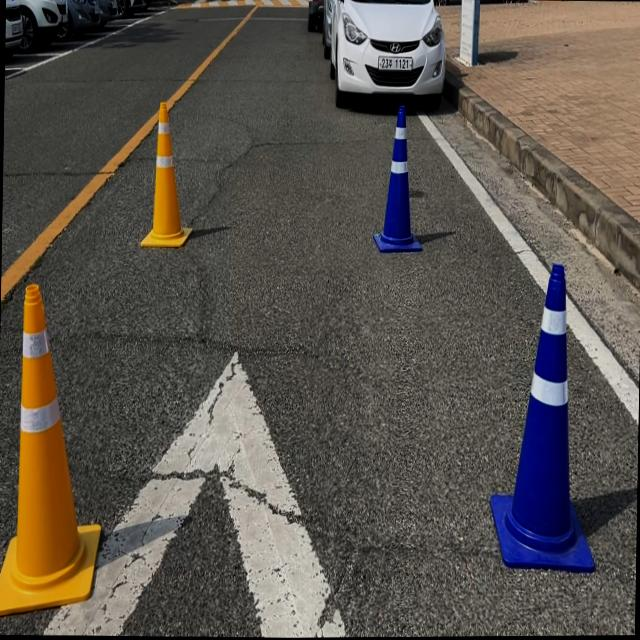b_rub: (491, 264, 595, 573), (373, 103, 422, 252)
y_rub: (0, 283, 100, 616), (139, 101, 192, 246)
